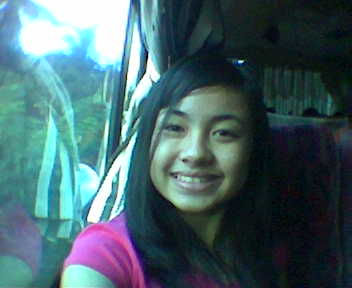person: (60, 52, 292, 288)
